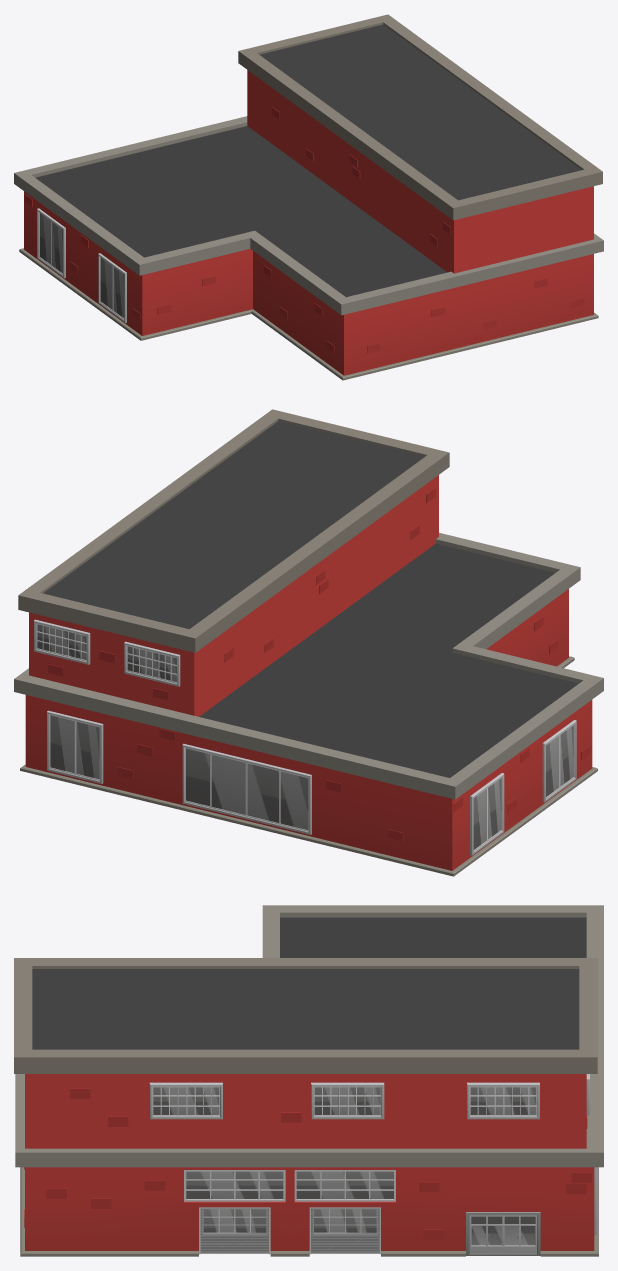
File: Building_22_1_A.fbx
The picture shows the model from 3 angles, top to bottom: view 1: azimuth 30°, elevation 25°; view 2: azimuth 150°, elevation 25°; view 3: azimuth 270°, elevation 25°; orthographic projection. The views are drawn at different scales.
Visible parts, largest first — view 1: Building_22_1_A; view 2: Building_22_1_A; view 3: Building_22_1_A.
Part boxes in pixels (x1,y1,x2,y2): Building_22_1_A: (14,14,603,380); Building_22_1_A: (14,409,603,876); Building_22_1_A: (14,905,603,1256).
Size of the model in its own units: 3108 by 1175 by 3132.
